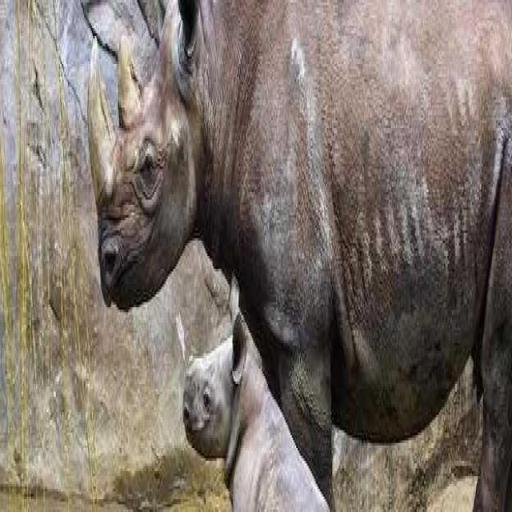Rhino: (86, 0, 512, 510), (177, 271, 332, 510)
